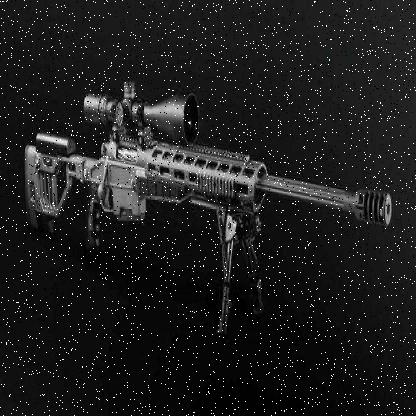rifle: (20, 70, 402, 352)
